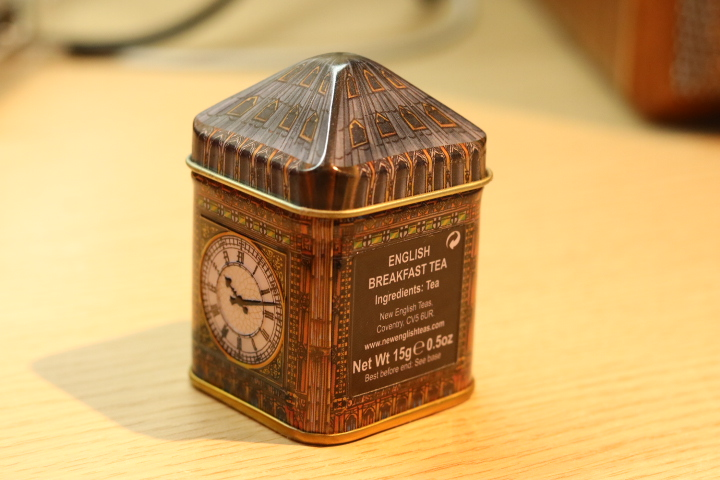Big Ben: (174, 48, 506, 453)
